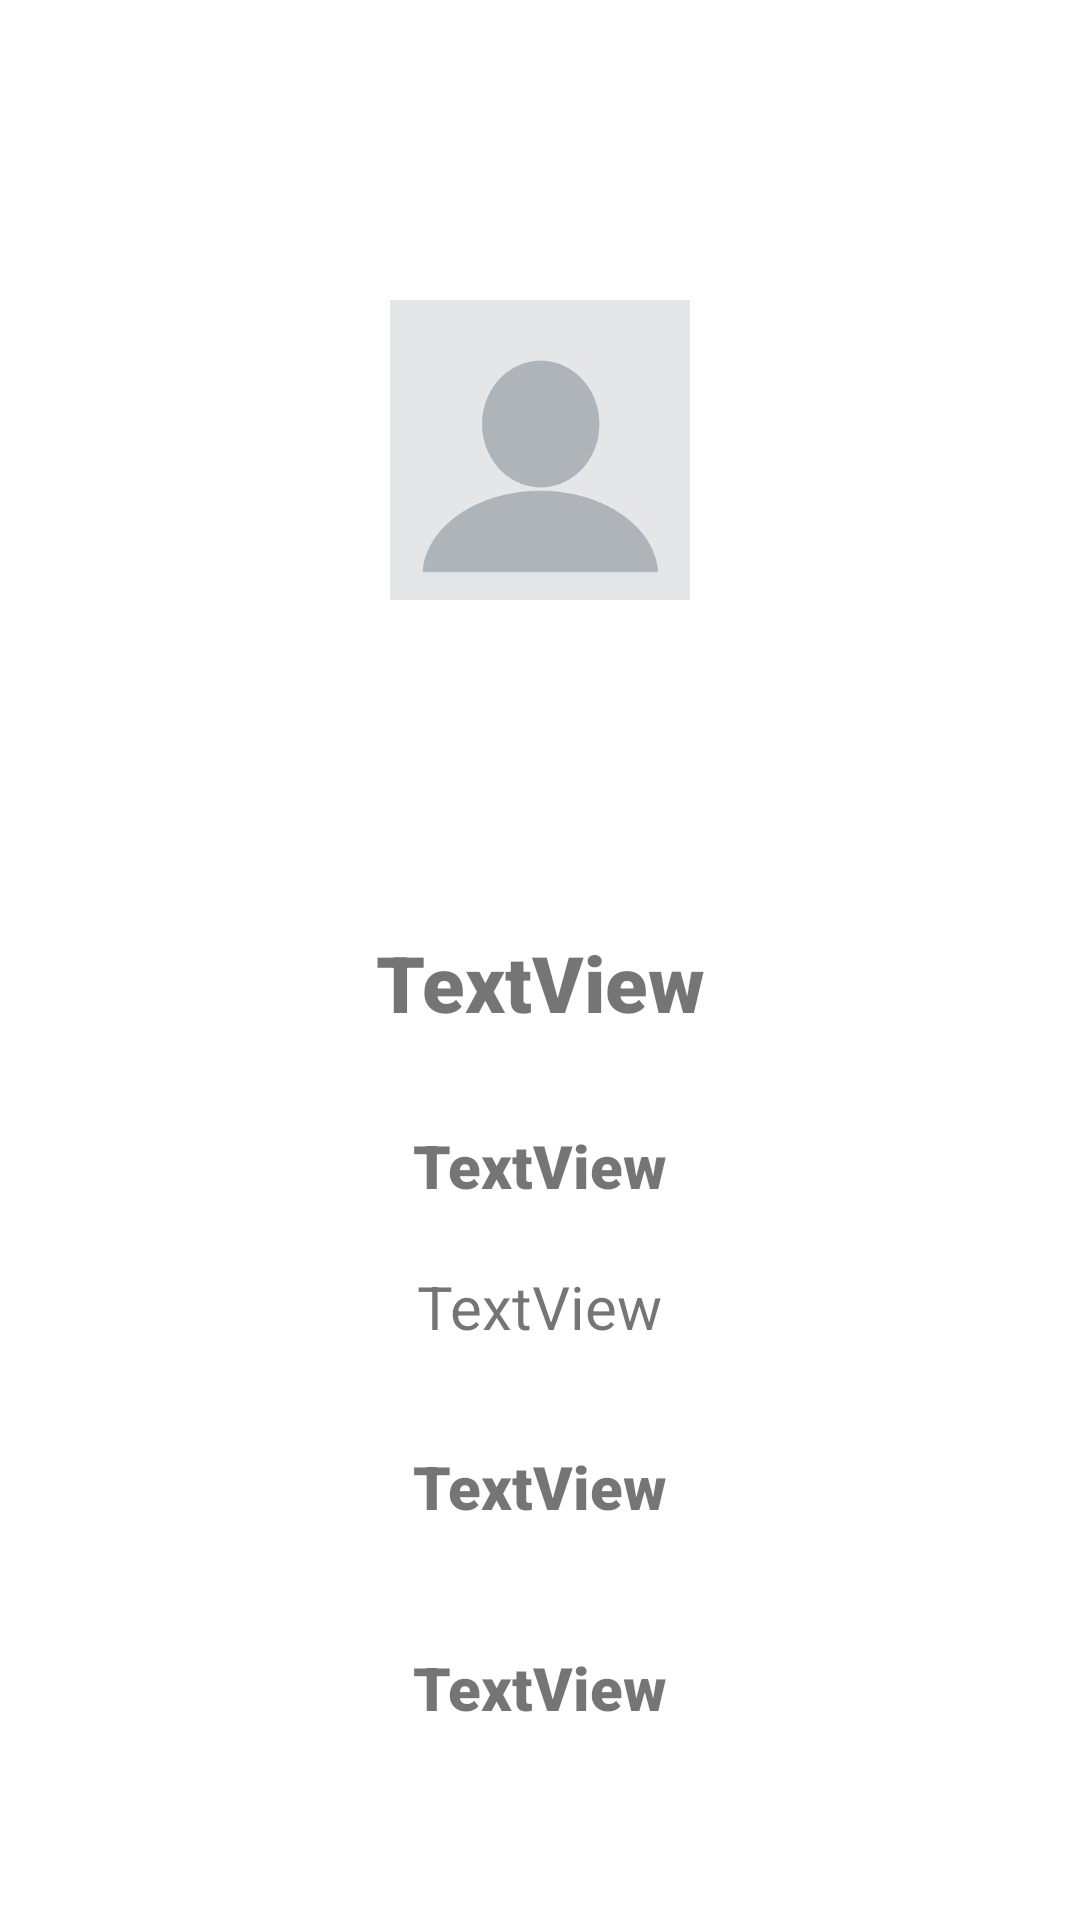

Locate icon controls on the screen. Image size 1080w x 1920h, boxes as (x1, y1, x2, y2).
blank profile pic: (390, 300, 690, 600)
